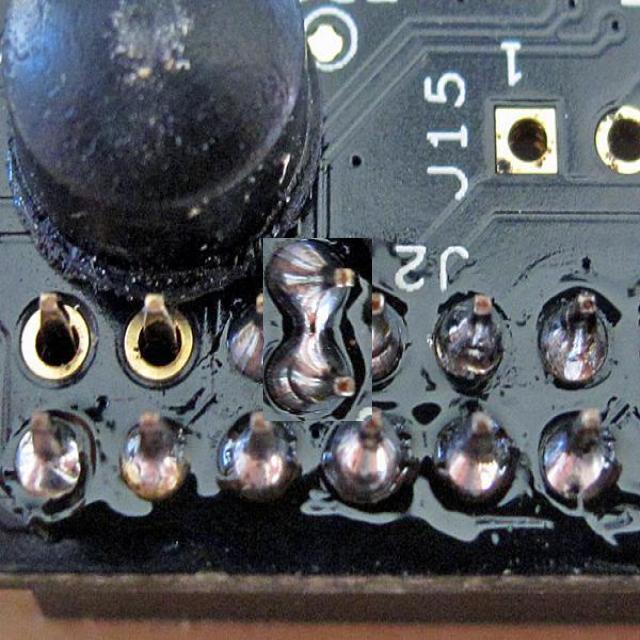Short_circuit: (244, 257, 391, 403)
